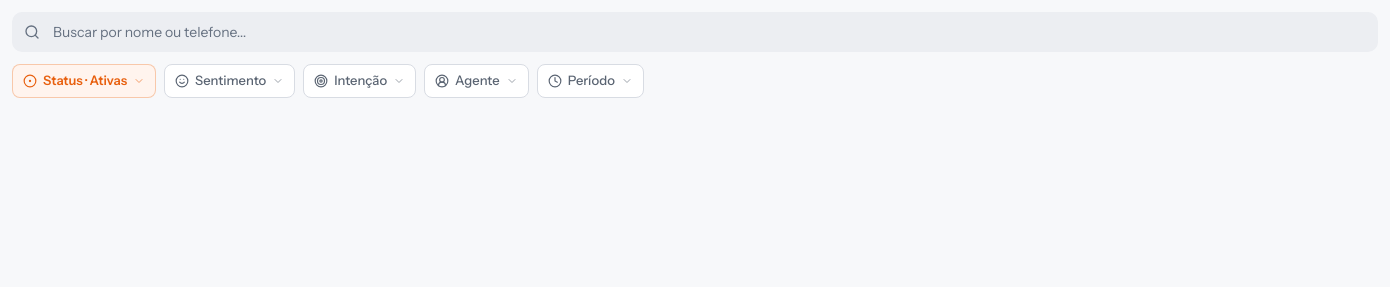
Test: ConversationFiltersCompact — chip-trigger › após selecionar 'Negativo' o chip mostra 'Sentimento · Negativo'
Click the button "Sentimento".
click(230, 81)  # box left=164, top=64, right=295, bottom=98
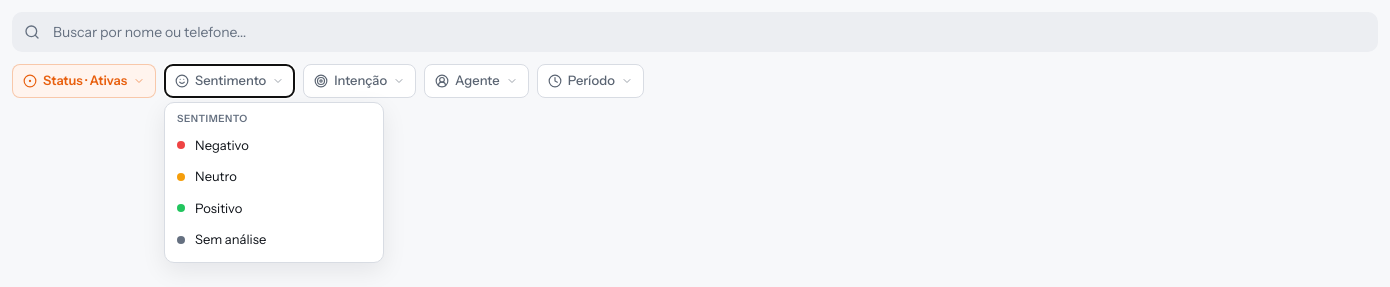
Click the button "Negativo".
click(274, 145)  # box left=165, top=130, right=383, bottom=161
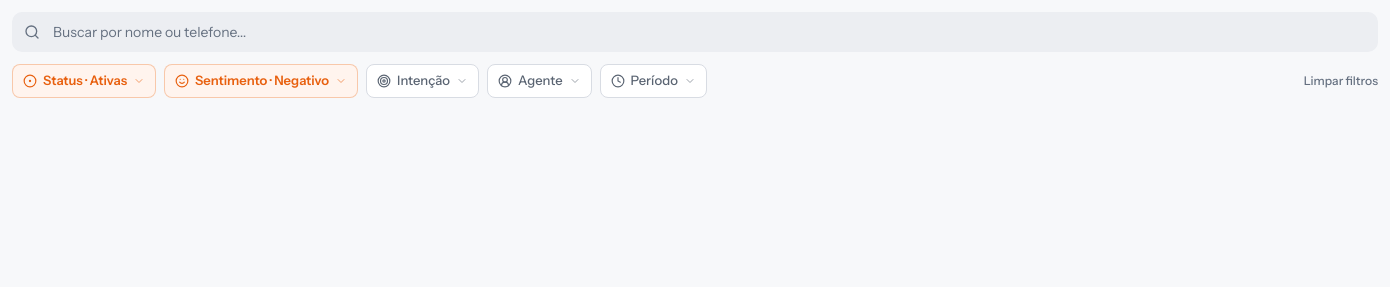
Check: the button "Sentimento · Negativo" is shown, box left=164, top=64, right=358, bottom=98
